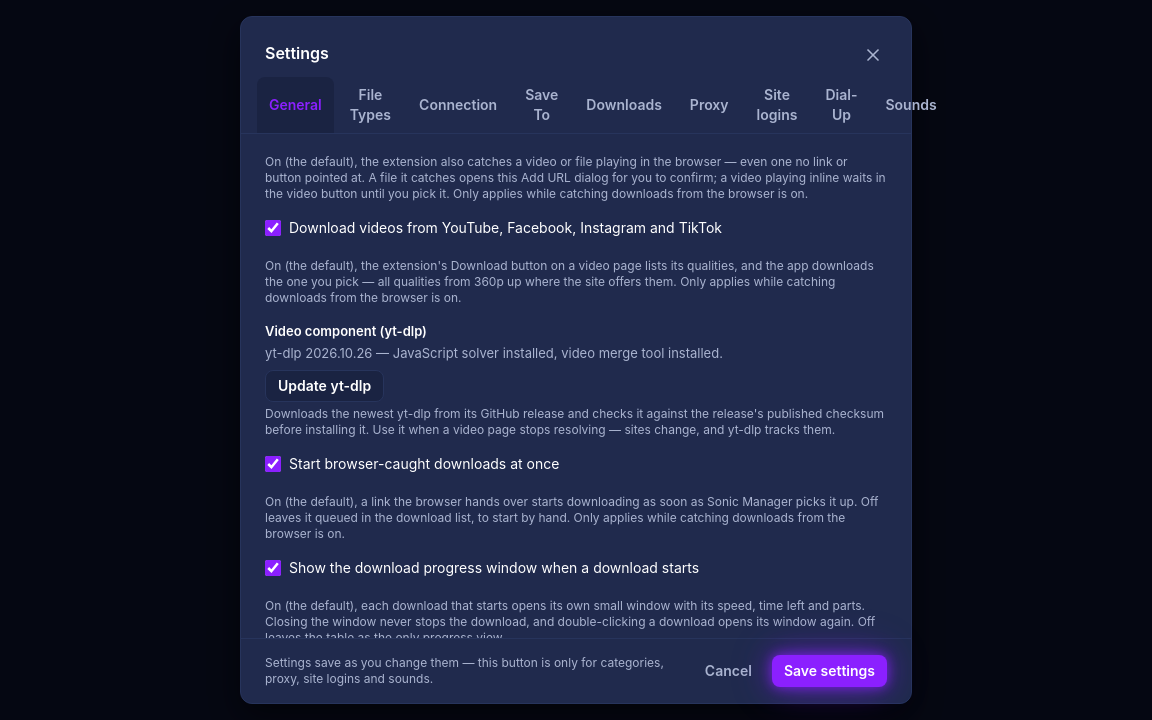
Test: Update yt-dlp button › shows a status immediately, then “already the newest” when unchanged
This screenshot has width=1152, height=720.
(page scrolled)
expect the text "yt-dlp 2026.10.26" is shown: met, box [265, 345, 723, 361]
Step 1. Click the button "Update yt-dlp" → (325, 386), box [265, 370, 384, 402]
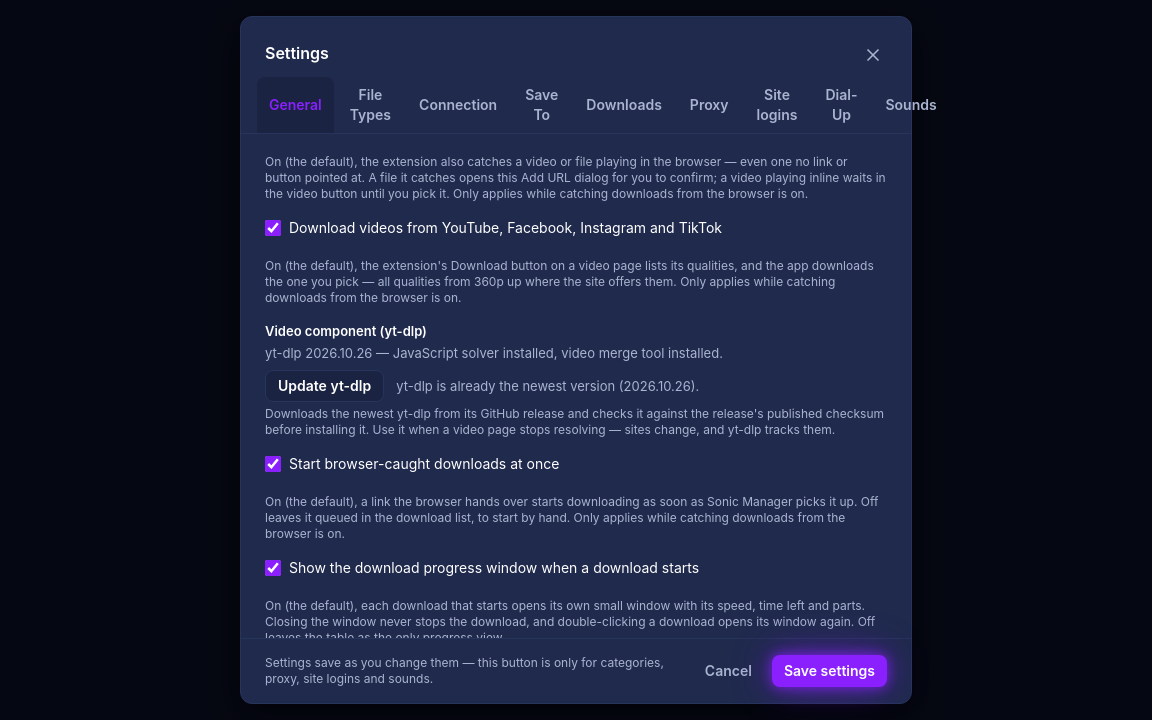
expect the text "yt-dlp is already the newest version (2026.10.26)." is shown: met, box [396, 377, 699, 395]
